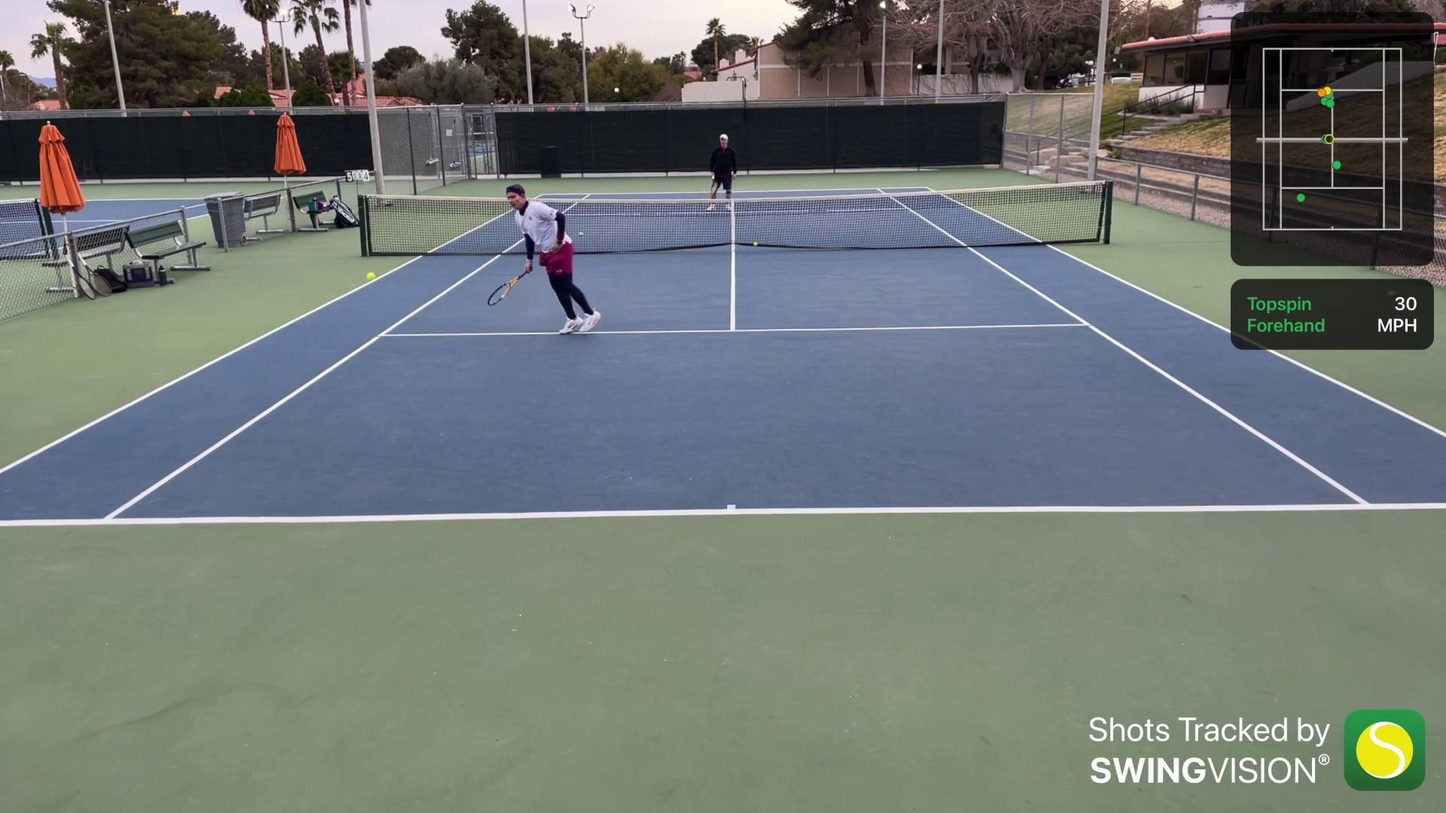ball: (366, 272, 375, 282), (577, 231, 586, 238), (751, 241, 758, 247)
